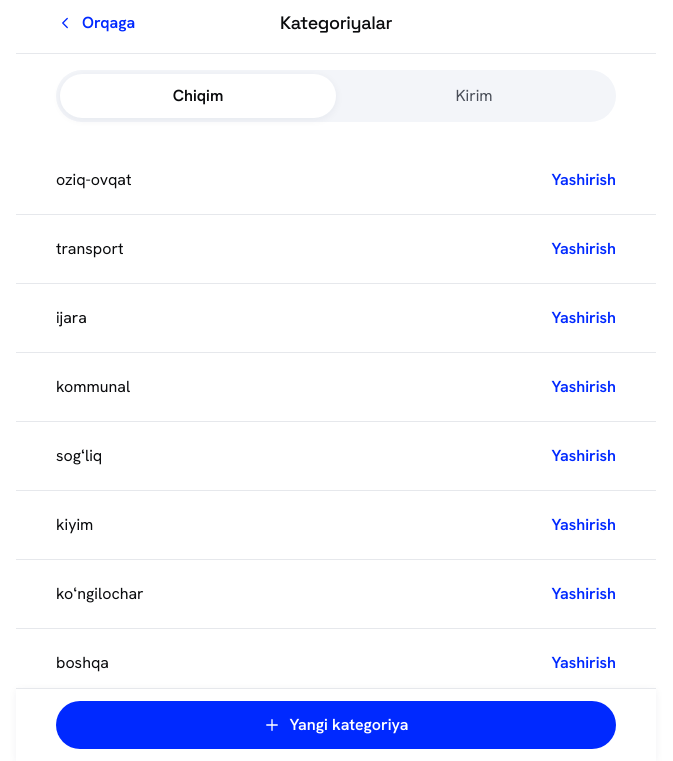
Test: xato holatlari — matnlar dizayn faylidan (mezon 14a, 14b) › boʻsh nom: «Nom kiriting.»
Click the button named "＋ Yangi kategoriya". click: click(336, 725)
box: [56, 701, 616, 749]
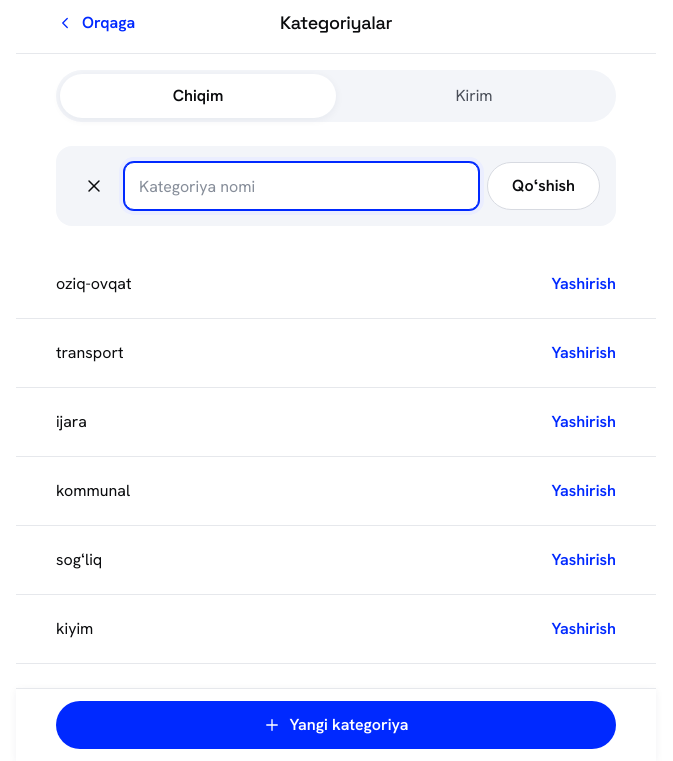
Click the button "Qoʻshish". click: click(544, 186)
box: [487, 162, 600, 210]
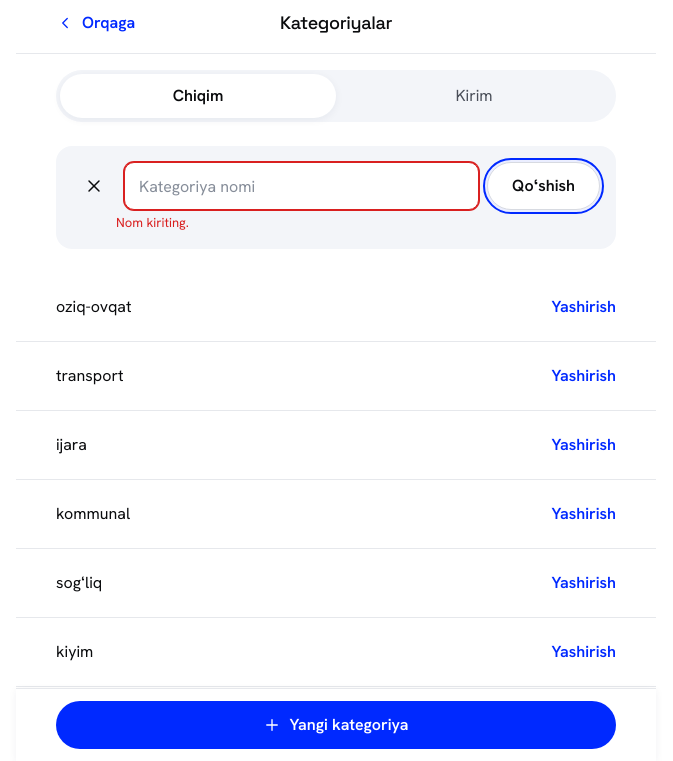
Check: the field labelled "Kategoriya nomi" is shown, box [124, 162, 479, 210]
Check: the text "Nom kiriting." is shown, box [116, 214, 189, 231]
